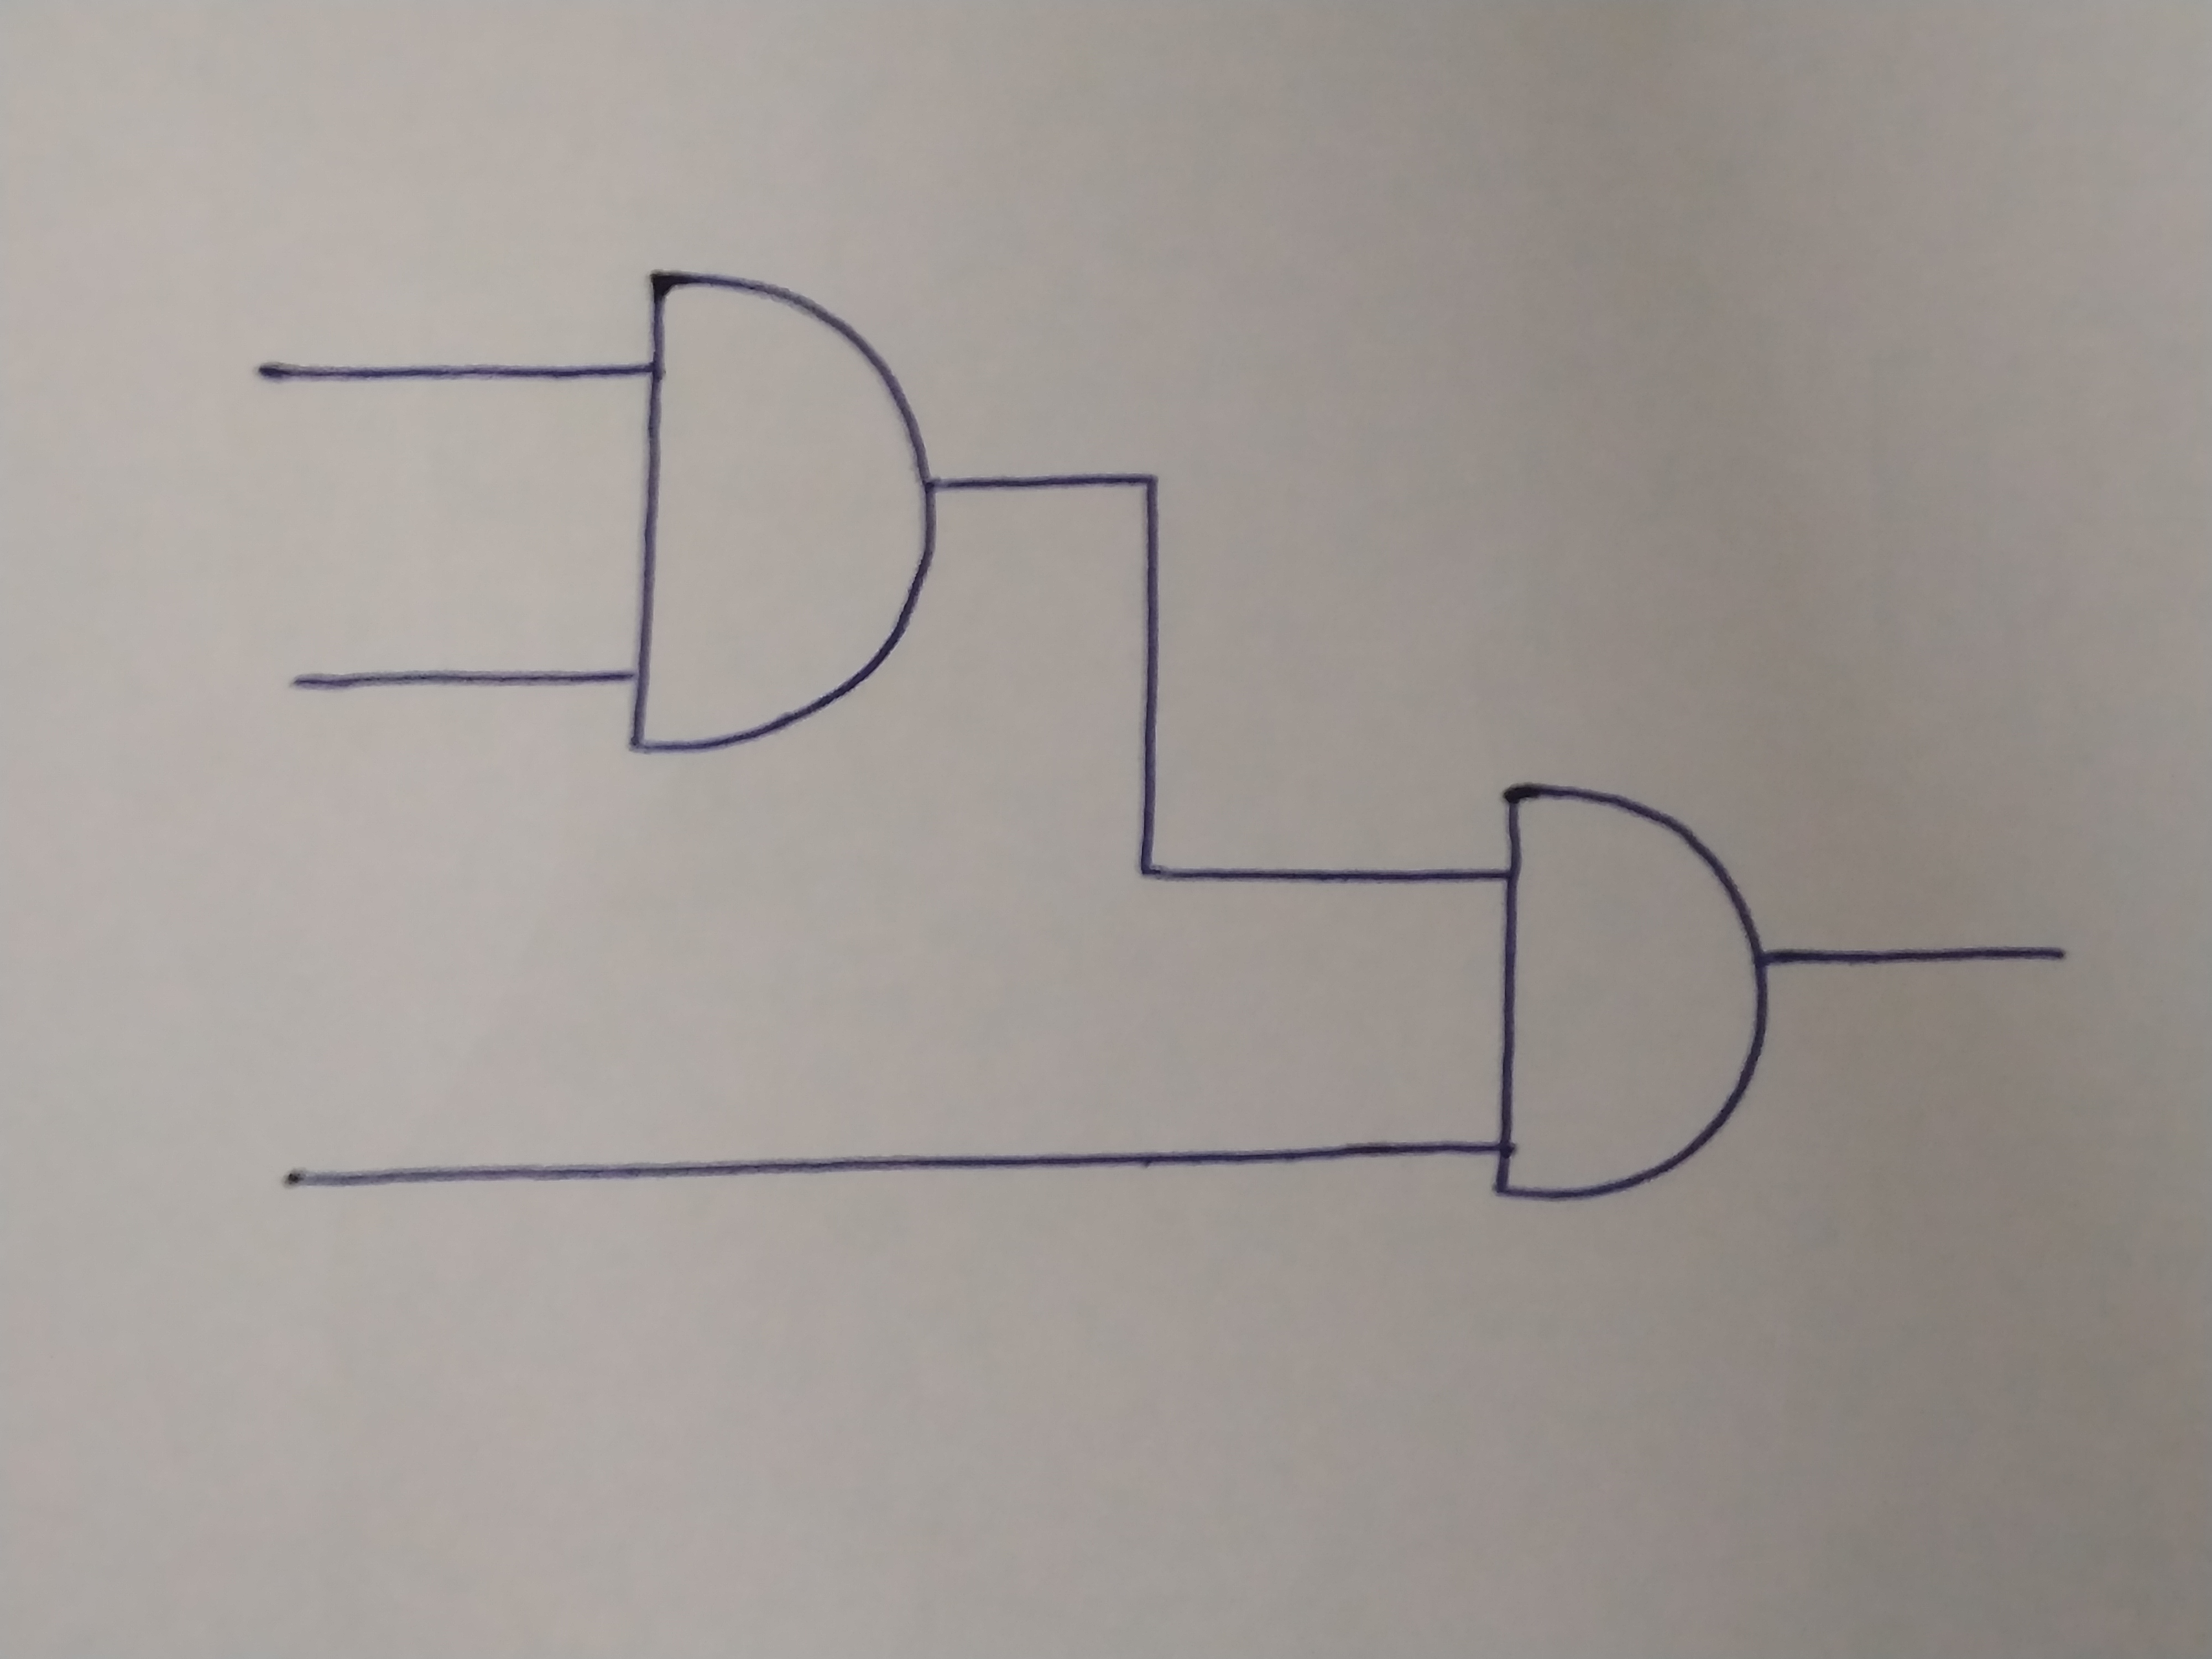and: (629, 267, 927, 751), (1486, 789, 1764, 1192)
